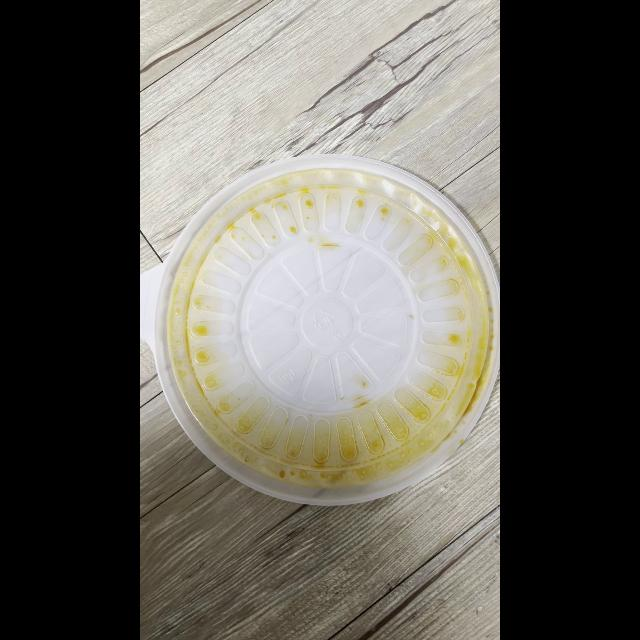dirty: (162, 156, 494, 494)
